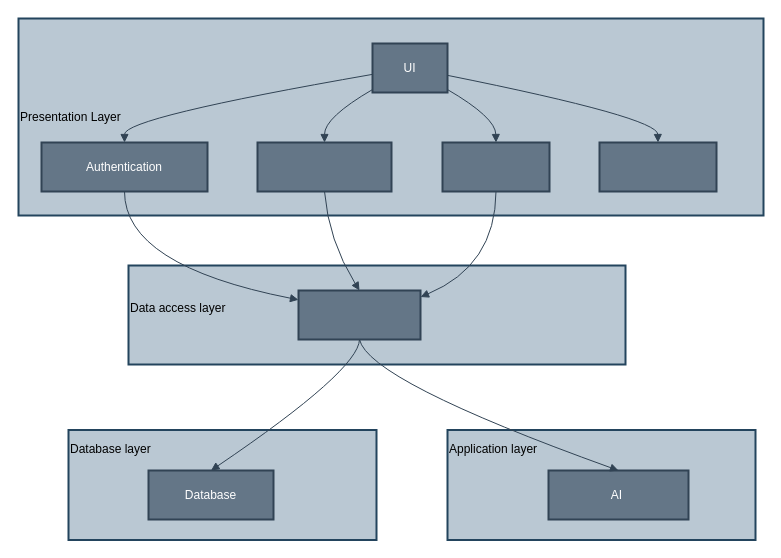
Image size: 781x558. Some labels were removed from this diagram. Each missing label, with the centre of its shape:
"API Calls" goes at [359,314].
"Dashboard" goes at [324,166].
"Profile" goes at [495,166].
"Settings" goes at [657,166].
